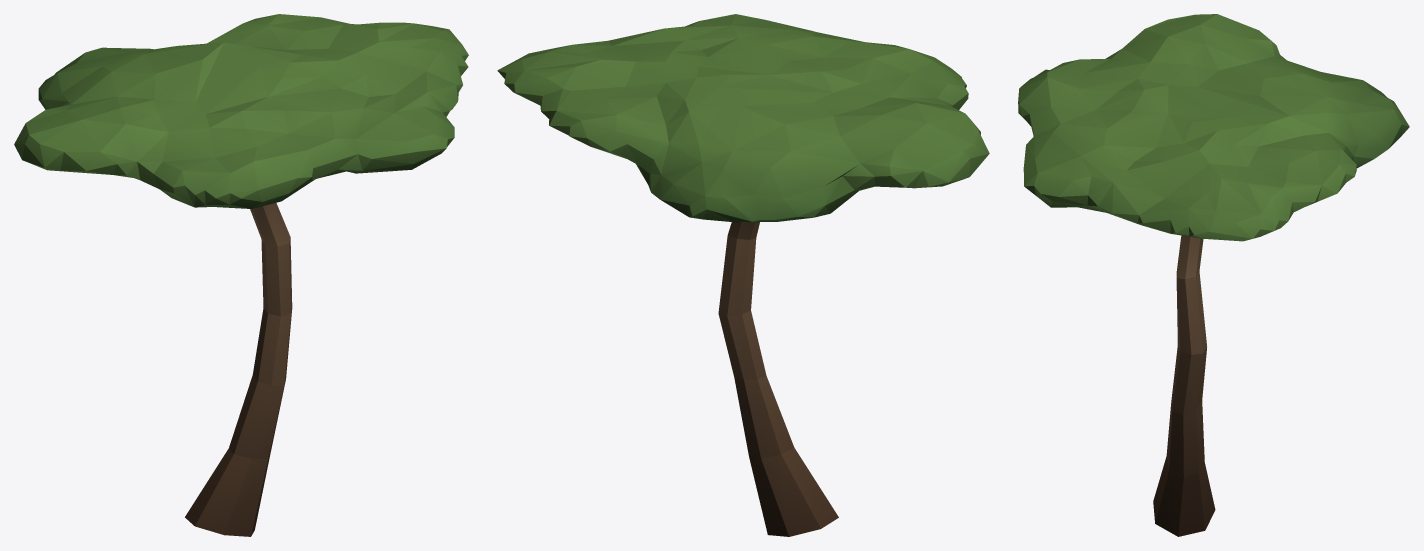
The model's file is pinia_1.glb.
The picture shows the model from 3 angles, left to right: view 1: azimuth 30°, elevation 25°; view 2: azimuth 150°, elevation 25°; view 3: azimuth 270°, elevation 25°; orthographic projection. The views are drawn at different scales.
Parts seen in each view (by area): view 1: pinia_1; view 2: pinia_1; view 3: pinia_1.
Boxes of the visible parts, <box> form: pinia_1: <box>14,14,468,536</box>; pinia_1: <box>497,14,989,536</box>; pinia_1: <box>1018,14,1409,536</box>.
Bounding box in the file's own units: 2.42 × 2.31 × 1.88.
